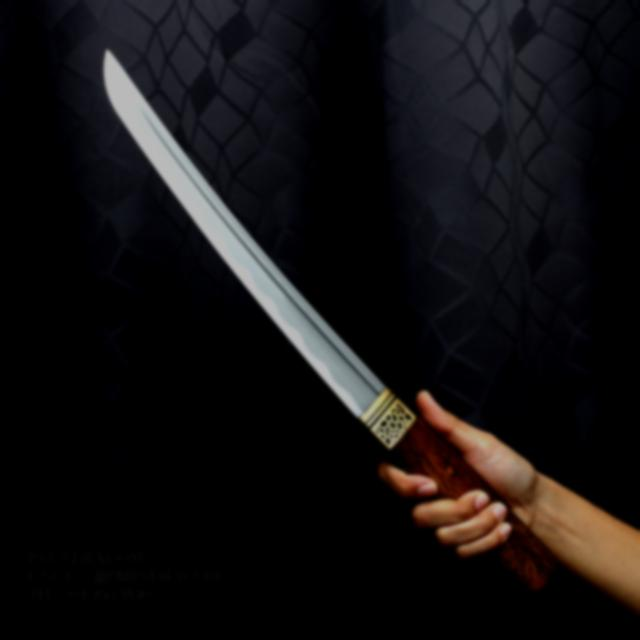short sword: (80, 28, 640, 640)
